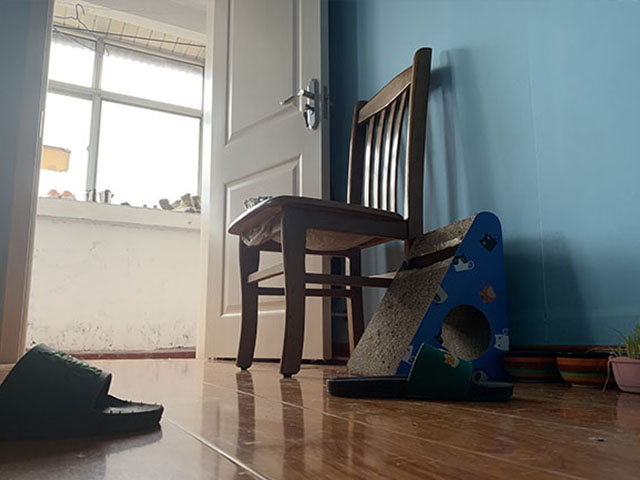slippers: (1, 341, 164, 438), (327, 339, 516, 401)
stool: (225, 45, 435, 377)
